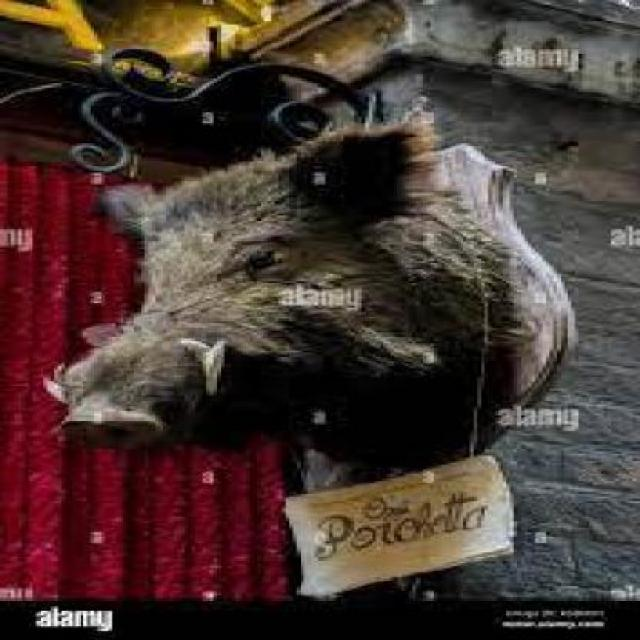Wild Boar: (38, 119, 536, 463)
